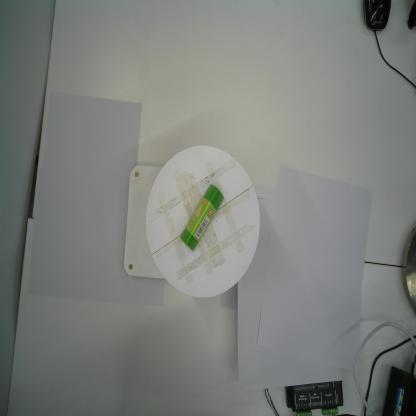Stationery: (179, 184, 224, 252)
